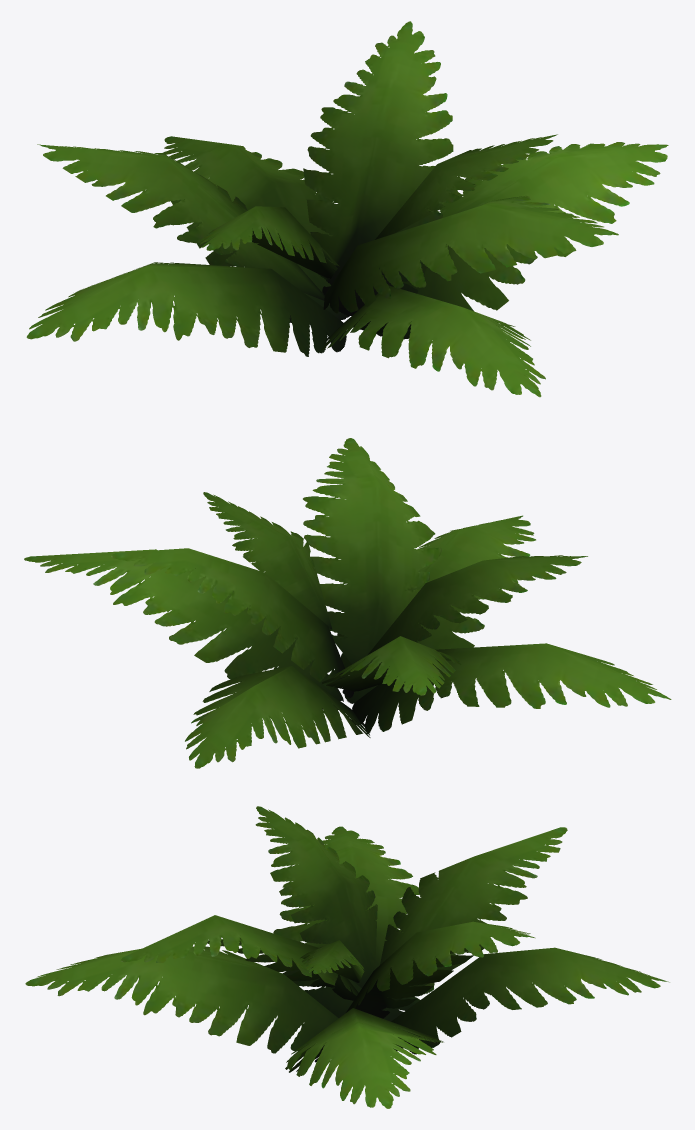
Rendered from Fern_1.medium.gltf.
The picture shows the model from 3 angles, top to bottom: view 1: azimuth 30°, elevation 25°; view 2: azimuth 150°, elevation 25°; view 3: azimuth 270°, elevation 25°; orthographic projection. The views are drawn at different scales.
Visible parts, largest first — view 1: Fern_1; view 2: Fern_1; view 3: Fern_1.
Part boxes in pixels (x1,y1,x2,y2): Fern_1: [26, 21, 668, 397]; Fern_1: [24, 438, 671, 768]; Fern_1: [25, 806, 669, 1108].
Size of the model in its own units: 2.83 by 0.8404 by 2.65.
1 material, 1 textured.
